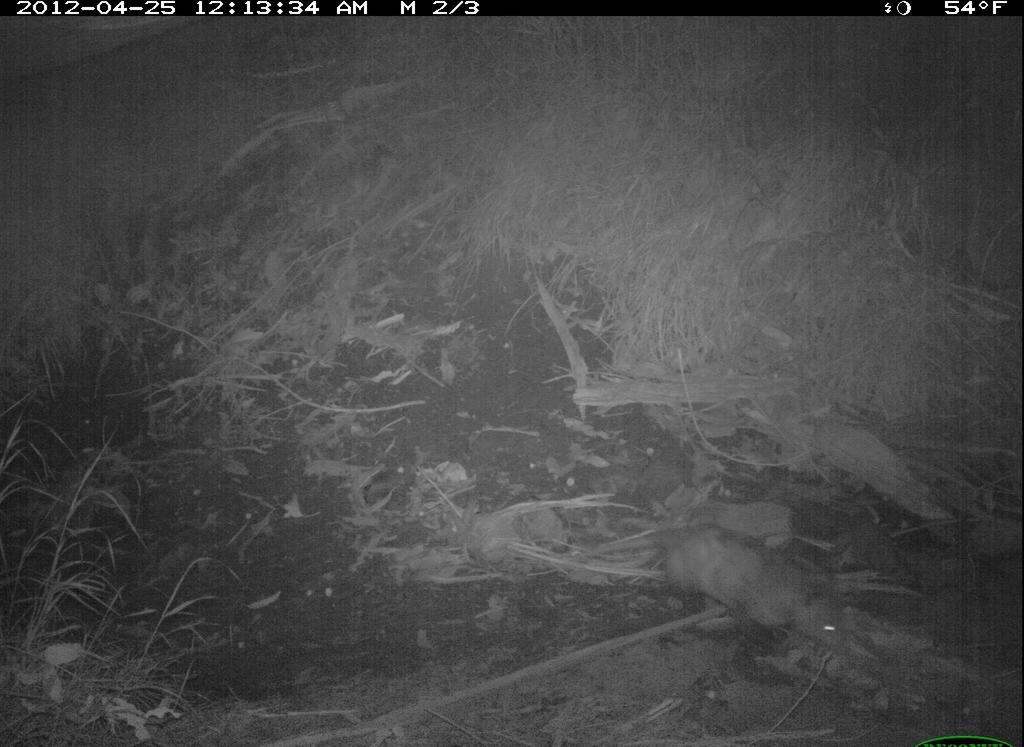opossum: (579, 515, 873, 666)
